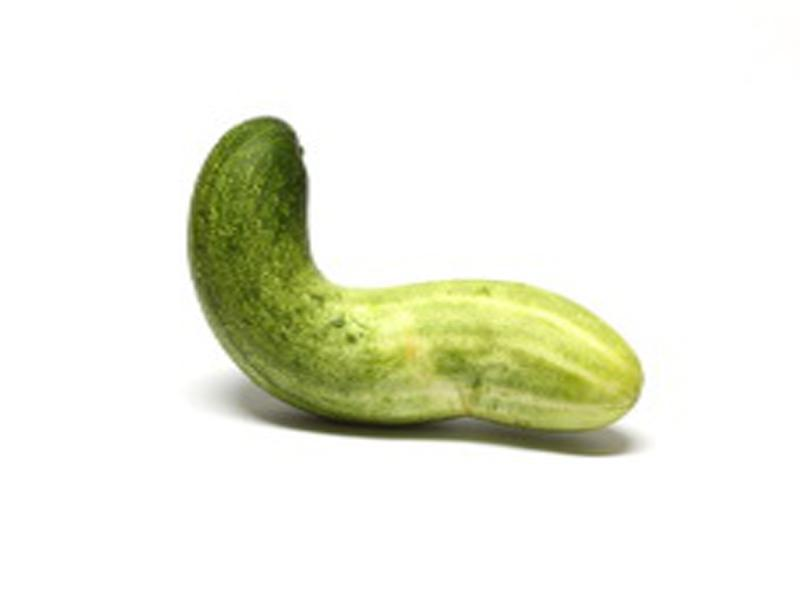Cucumber: (186, 116, 644, 433)
